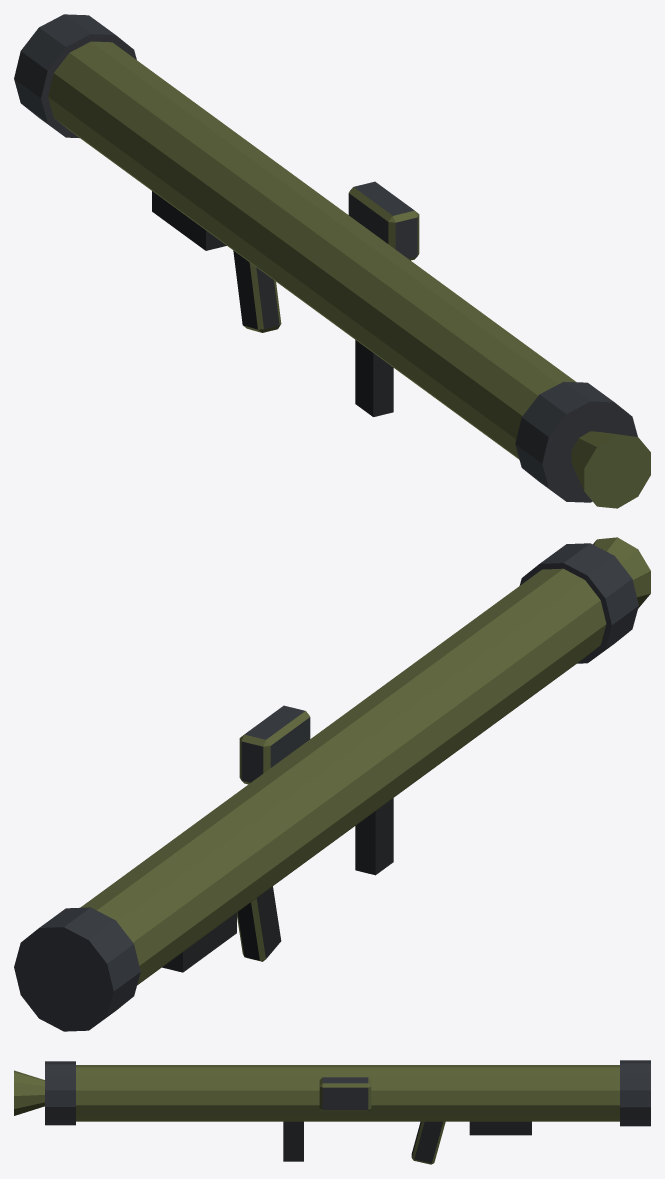
Rendered from WPN_RocketLauncher.fbx.
The picture shows the model from 3 angles, top to bottom: view 1: azimuth 30°, elevation 25°; view 2: azimuth 150°, elevation 25°; view 3: azimuth 270°, elevation 25°; orthographic projection. The views are drawn at different scales.
Visible parts, largest first — view 1: WPN_RocketLauncher__BODY, WPN_RocketLauncher__ROCKET; view 2: WPN_RocketLauncher__BODY, WPN_RocketLauncher__ROCKET; view 3: WPN_RocketLauncher__BODY, WPN_RocketLauncher__ROCKET.
Part boxes in pixels (left/top/right/bottom): WPN_RocketLauncher__BODY: left=14, top=14, right=637, bottom=502; WPN_RocketLauncher__ROCKET: left=571, top=431, right=650, bottom=508; WPN_RocketLauncher__BODY: left=14, top=543, right=638, bottom=1031; WPN_RocketLauncher__ROCKET: left=593, top=537, right=650, bottom=608; WPN_RocketLauncher__BODY: left=45, top=1060, right=650, bottom=1164; WPN_RocketLauncher__ROCKET: left=14, top=1070, right=44, bottom=1115.
Size of the model in its own units: 0.154 by 0.2116 by 1.23.
